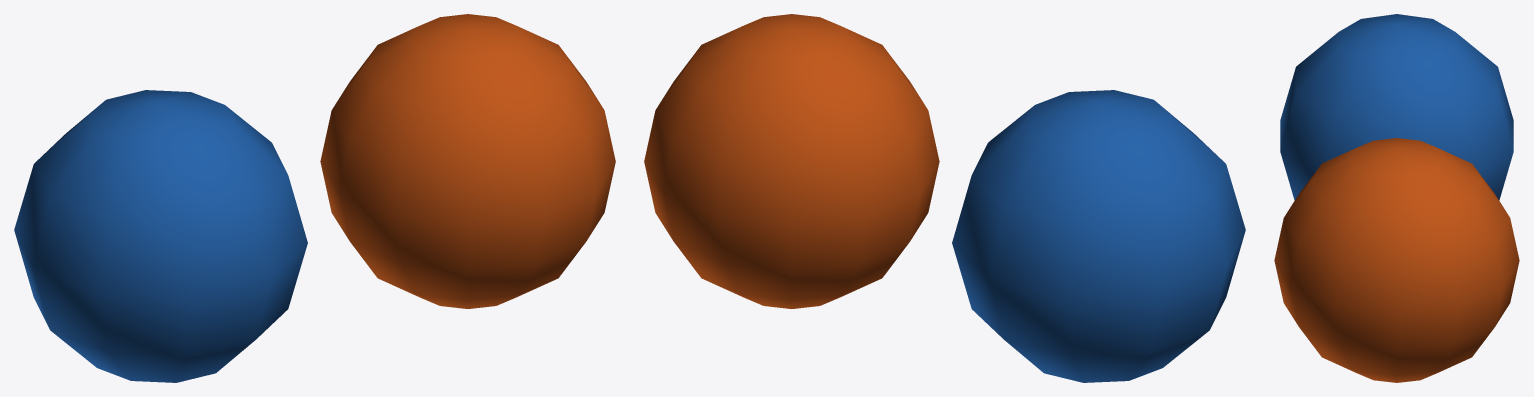
The model's file is morph-incompatible.glb.
3 views of the same model, side by side, from view 1: azimuth 30°, elevation 25°; view 2: azimuth 150°, elevation 25°; view 3: azimuth 270°, elevation 25° (orthographic). The views are drawn at different scales.
Visible parts, largest first — view 1: cortex.right, cortex.left; view 2: cortex.right, cortex.left; view 3: cortex.right, cortex.left.
Part boxes in pixels (x1,y1,x2,y2): cortex.right: [320, 14, 615, 308]; cortex.left: [14, 90, 307, 382]; cortex.right: [644, 14, 939, 308]; cortex.left: [952, 90, 1245, 382]; cortex.right: [1274, 138, 1519, 382]; cortex.left: [1280, 14, 1513, 200].
Size of the model in its own units: 4.4 by 2 by 2.
